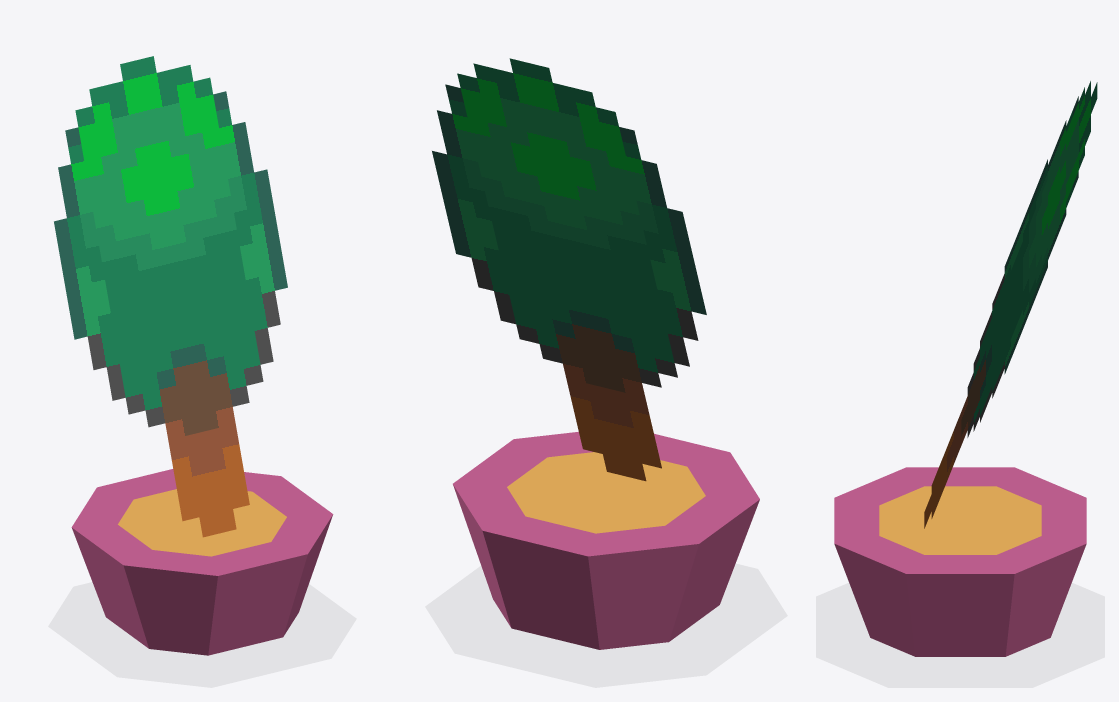
File: modelo.obj
3 renders of one model, left to right at view 1: azimuth 30°, elevation 25°; view 2: azimuth 150°, elevation 25°; view 3: azimuth 270°, elevation 25°, orthographic. The views are drawn at different scales.
Parts seen in each view (by area): view 1: polygon1; view 2: polygon1; view 3: polygon1.
Part boxes in pixels (x1,y1,x2,y2): polygon1: (54, 56, 333, 655); polygon1: (432, 58, 759, 649); polygon1: (834, 81, 1097, 656).
Size of the model in its own units: 16 by 33.75 by 16.
Materials: 2 (2 with a texture image).
